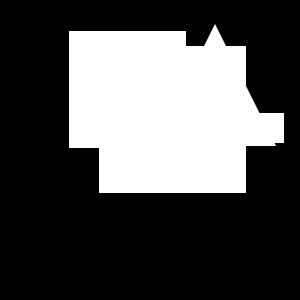circle: (99, 46, 246, 193), (69, 31, 186, 148), (254, 113, 284, 143)
triangle: (154, 24, 276, 146)
